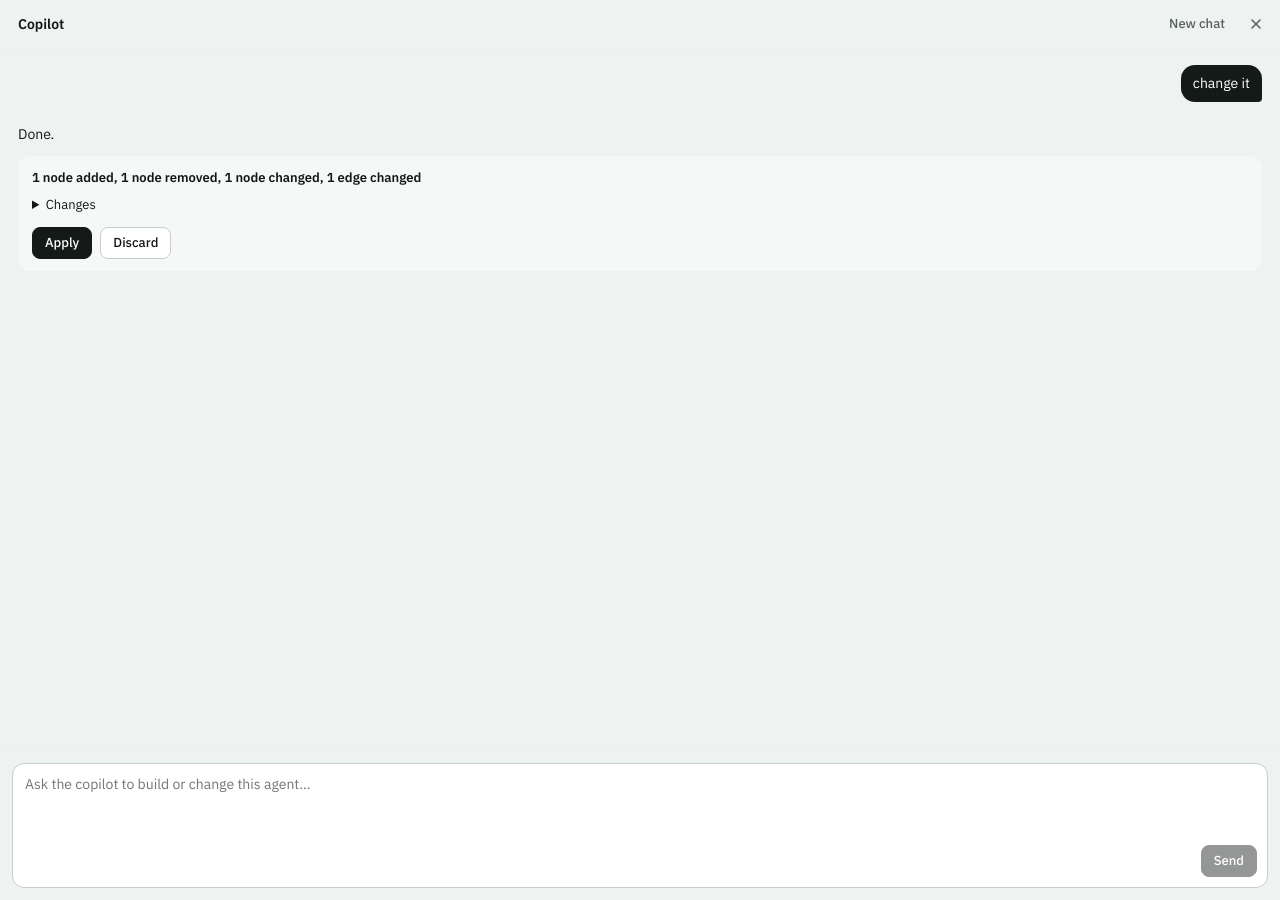
ProposalCard › Discard leaves the editor untouched
Click the button "Discard": coordinates (136, 243) [100, 227, 171, 259]
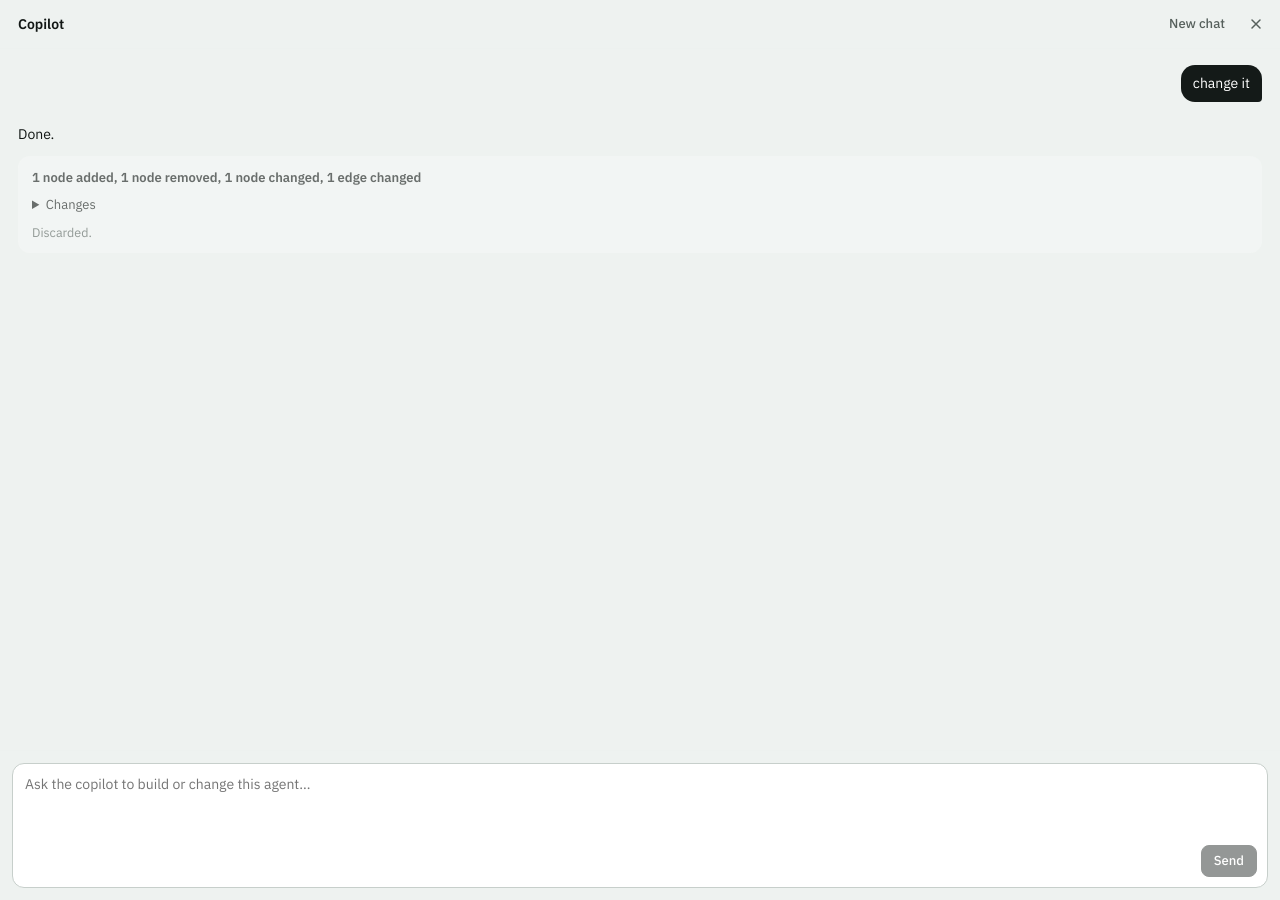
Expected: the text "Discarded." is shown, [32, 224, 92, 240]
